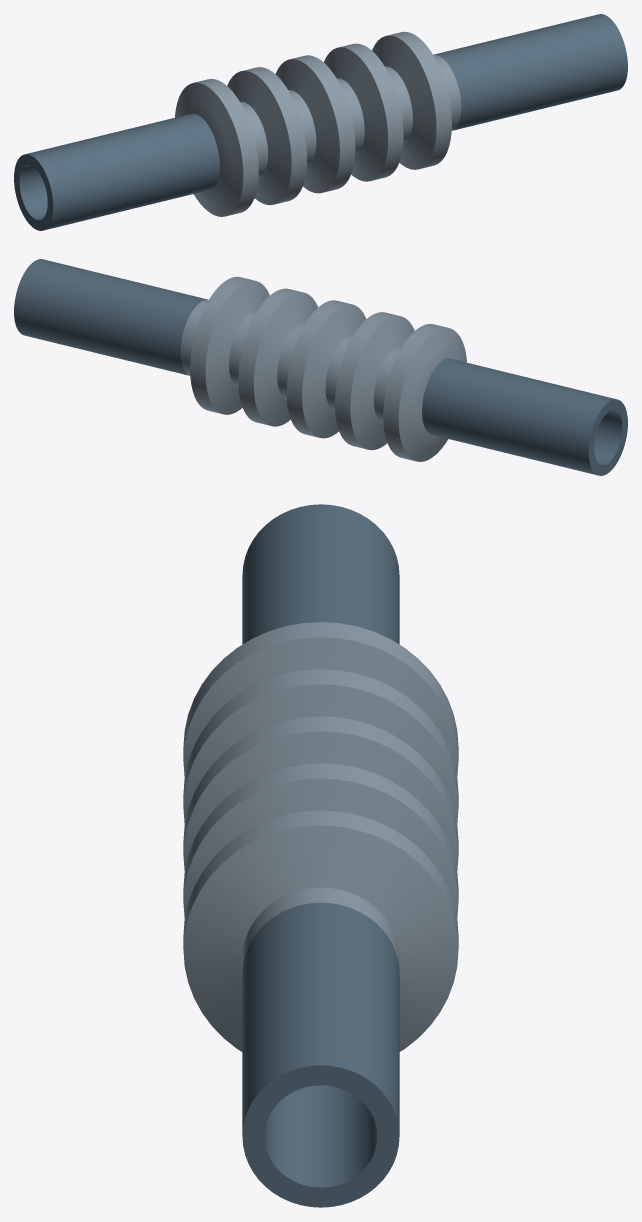
File: silf-dn15-L180-D21_3.glb
3 views of the same model, one above another, from view 1: azimuth 30°, elevation 25°; view 2: azimuth 150°, elevation 25°; view 3: azimuth 270°, elevation 25° (orthographic). The views are drawn at different scales.
Visible parts, largest first — view 1: prokladka_silfon_1, patrubok_1, patrubok_2; view 2: prokladka_silfon_1, patrubok_1, patrubok_2; view 3: prokladka_silfon_1, patrubok_2, patrubok_1.
Boxes of the visible parts, x1,y1,x2,y2 form: prokladka_silfon_1: [175, 31, 461, 216]; patrubok_1: [14, 113, 219, 230]; patrubok_2: [434, 14, 627, 130]; prokladka_silfon_1: [180, 276, 466, 461]; patrubok_1: [422, 358, 627, 475]; patrubok_2: [14, 259, 207, 375]; prokladka_silfon_1: [183, 622, 458, 1051]; patrubok_2: [242, 902, 399, 1207]; patrubok_1: [242, 504, 399, 644].
Bounding box in the file's own units: 180 × 37.3 × 37.3.
